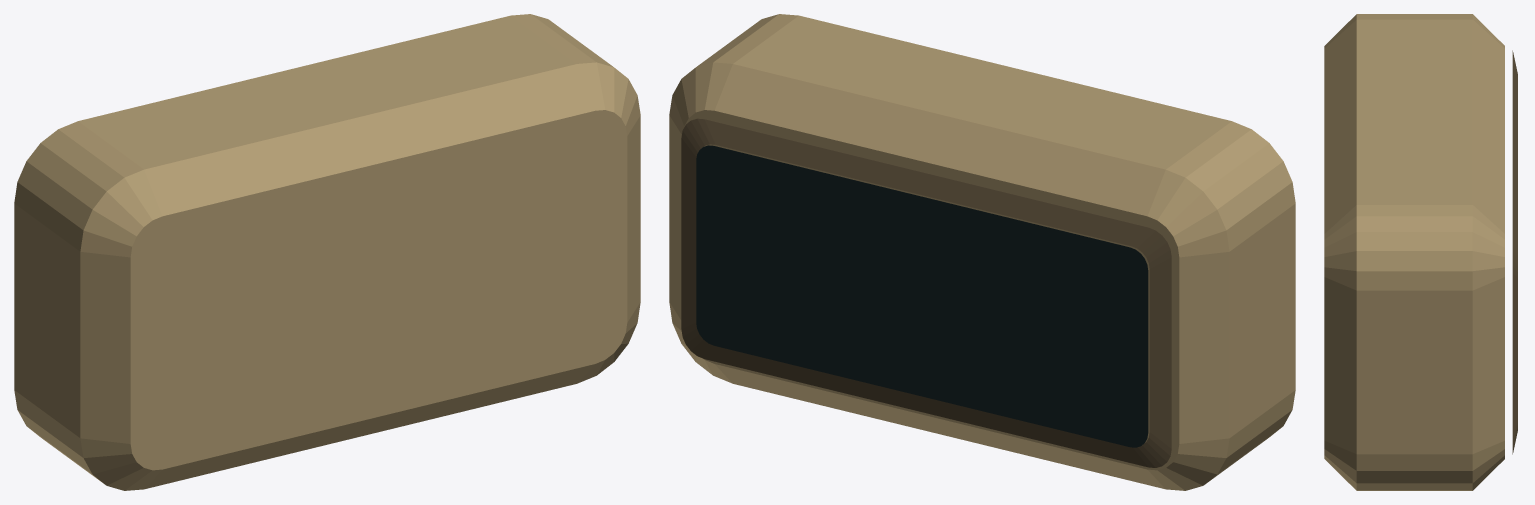
File: digital_clock.obj
3 views of the same model, side by side, from view 1: azimuth 30°, elevation 25°; view 2: azimuth 150°, elevation 25°; view 3: azimuth 270°, elevation 25° (orthographic). The views are drawn at different scales.
Parts seen in each view (by area): view 1: casing; view 2: casing, runtime_clock, display_recess; view 3: casing, display_recess.
Part boxes in pixels (left/top/right/bottom): casing: left=14, top=14, right=640, bottom=490; casing: left=669, top=14, right=1295, bottom=490; runtime_clock: left=696, top=145, right=1148, bottom=447; display_recess: left=681, top=118, right=1171, bottom=467; casing: left=1324, top=14, right=1504, bottom=490; display_recess: left=1512, top=50, right=1517, bottom=454.
Size of the model in its own units: 0.44 by 0.24 by 0.152.
